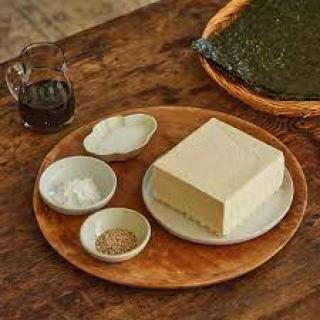Tahu: (147, 116, 288, 240)
